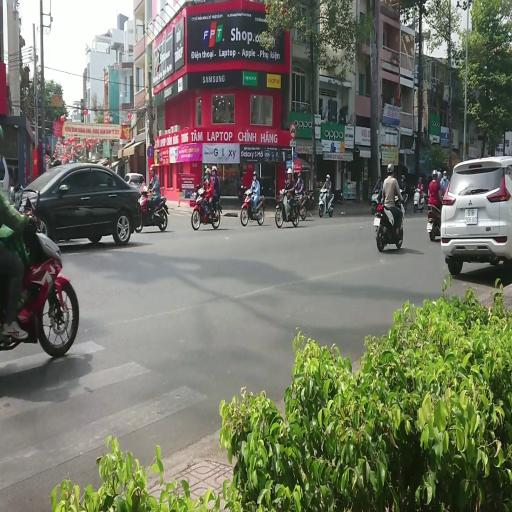bikes: (0, 187, 79, 357), (9, 182, 47, 236), (373, 194, 405, 252), (135, 185, 168, 232), (190, 185, 220, 230), (275, 188, 299, 228), (240, 188, 265, 226), (426, 201, 442, 241), (318, 186, 335, 217), (292, 192, 306, 221), (188, 183, 204, 207), (413, 186, 425, 212), (398, 188, 408, 212), (371, 188, 380, 214), (305, 189, 314, 208), (336, 188, 344, 204)
helmet: (387, 162, 394, 174), (141, 185, 148, 193), (198, 188, 205, 195), (204, 180, 209, 189), (432, 169, 437, 177), (212, 165, 217, 173), (437, 170, 442, 178), (286, 168, 292, 174), (205, 168, 211, 174), (204, 177, 209, 184), (195, 184, 200, 190), (150, 164, 154, 171), (326, 174, 330, 180), (442, 170, 446, 176), (297, 173, 301, 179), (253, 171, 257, 176), (401, 175, 405, 180), (438, 168, 442, 173), (247, 190, 252, 194), (420, 184, 423, 190), (419, 177, 422, 182), (378, 176, 381, 180), (414, 185, 416, 190)
